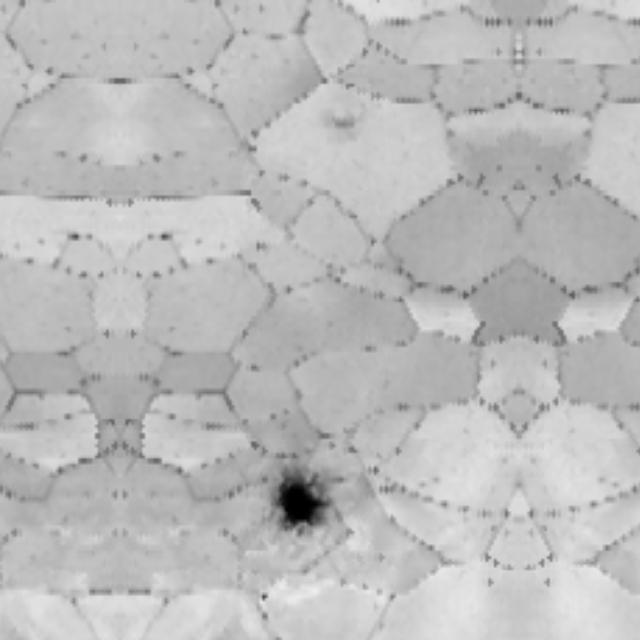good_void: (267, 463, 353, 540), (316, 101, 375, 150)
